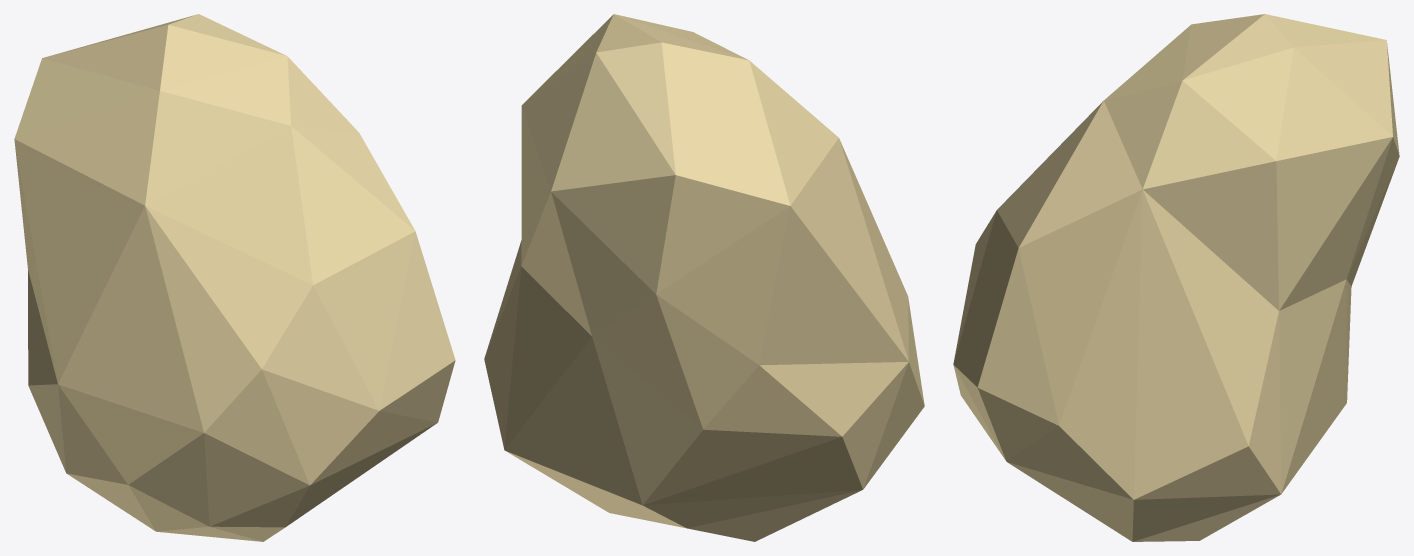
File: Rock (35).fbx
3 renders of one model, left to right at view 1: azimuth 30°, elevation 25°; view 2: azimuth 150°, elevation 25°; view 3: azimuth 270°, elevation 25°, orthographic. The views are drawn at different scales.
Parts seen in each view (by area): view 1: Asteroid34; view 2: Asteroid34; view 3: Asteroid34.
Part boxes in pixels (x1,y1,x2,y2): Asteroid34: (14, 14, 455, 541); Asteroid34: (484, 14, 924, 541); Asteroid34: (953, 14, 1399, 541).
Size of the model in its own units: 107 by 135 by 111.
